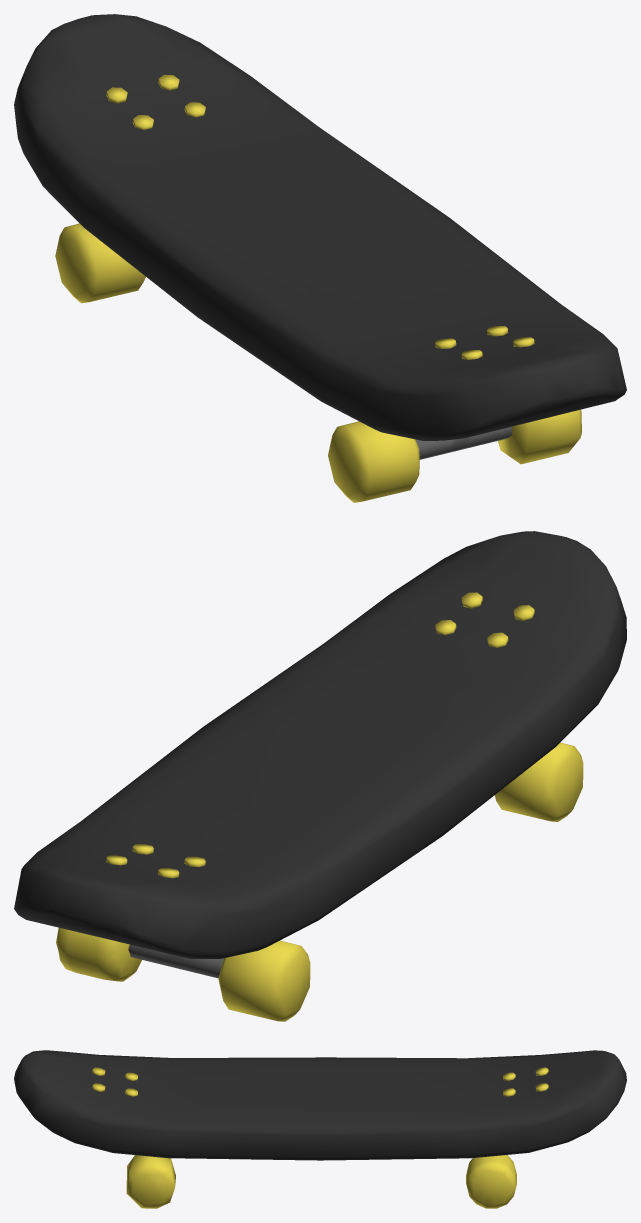
The model's file is skate_test.glb.
3 views of the same model, one above another, from view 1: azimuth 30°, elevation 25°; view 2: azimuth 150°, elevation 25°; view 3: azimuth 270°, elevation 25° (orthographic). The views are drawn at different scales.
Visible parts, largest first — view 1: skate_planche, skate_roue_0, skate_roue_1, skate_roue_3, soutient_roues_0, skate_test_0, skate_test_1; view 2: skate_planche, skate_roue_1, skate_roue_0, skate_roue_2, soutient_roues_1, skate_test_0, skate_test_1; view 3: skate_planche, skate_roue_2, skate_roue_3, skate_test_0, skate_test_1.
Part boxes in pixels (x1=…): skate_planche: x1=14, y1=14, x2=626, y2=440; skate_roue_0: x1=328, y1=421, x2=419, y2=502; skate_roue_1: x1=55, y1=223, x2=145, y2=303; skate_roue_3: x1=498, y1=409, x2=581, y2=464; soutient_roues_0: x1=415, y1=426, x2=511, y2=459; skate_test_0: x1=106, y1=74, x2=534, y2=359; skate_test_1: x1=132, y1=102, x2=508, y2=348; skate_planche: x1=14, y1=531, x2=626, y2=958; skate_roue_1: x1=218, y1=940, x2=310, y2=1021; skate_roue_0: x1=494, y1=742, x2=583, y2=821; skate_roue_2: x1=56, y1=927, x2=141, y2=981; soutient_roues_1: x1=128, y1=944, x2=223, y2=978; skate_test_0: x1=106, y1=592, x2=534, y2=878; skate_test_1: x1=132, y1=620, x2=508, y2=867; skate_planche: x1=14, y1=1050, x2=626, y2=1160; skate_roue_2: x1=466, y1=1155, x2=516, y2=1208; skate_roue_3: x1=126, y1=1155, x2=175, y2=1208; skate_test_0: x1=92, y1=1067, x2=548, y2=1091; skate_test_1: x1=125, y1=1072, x2=515, y2=1096.
Size of the model in its own units: 1.3 by 0.9199 by 4.44.
